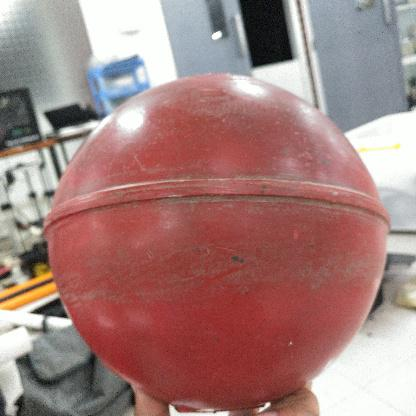red_buoy: (40, 67, 390, 406)
